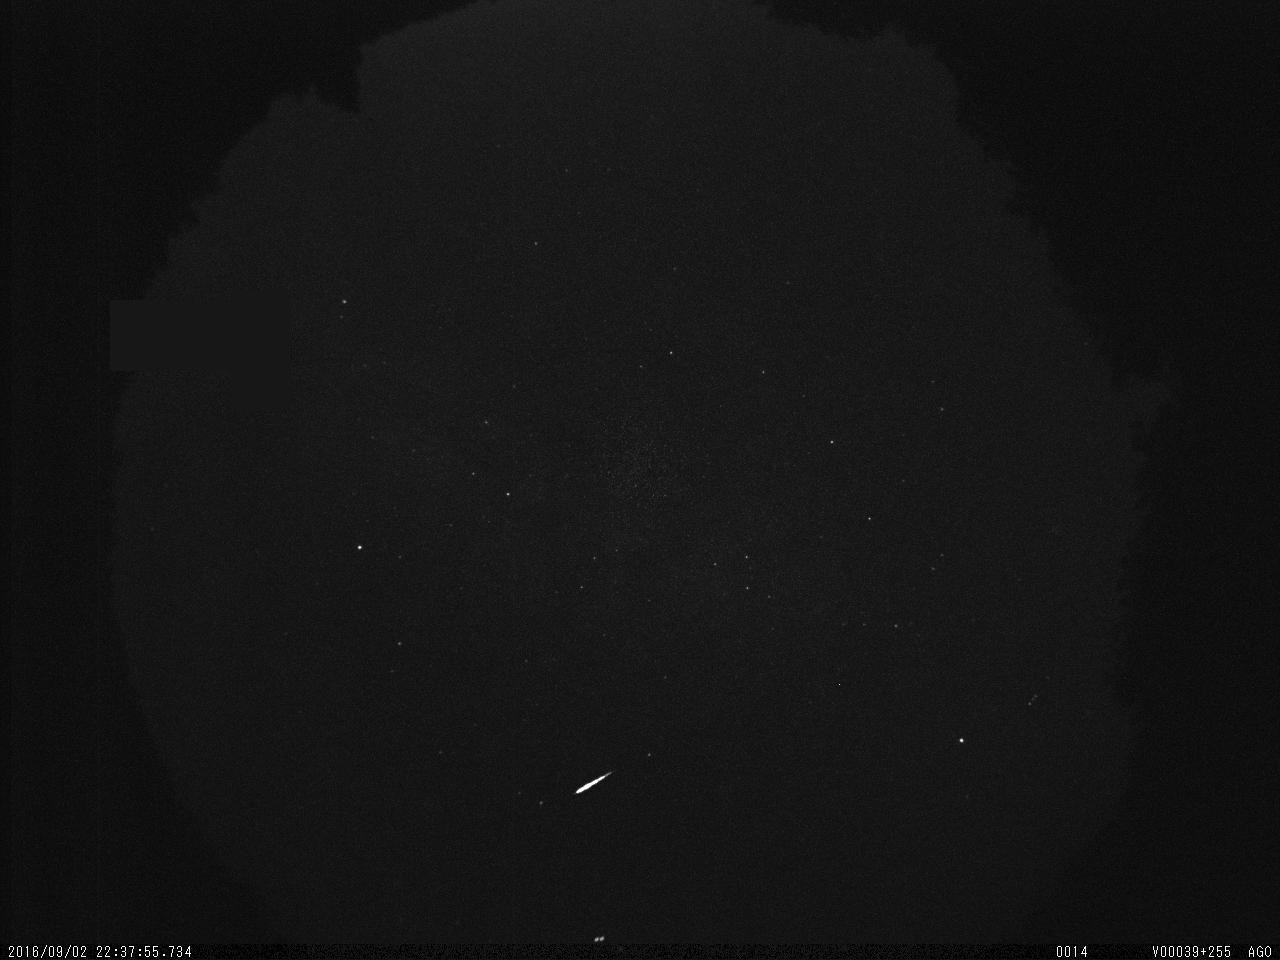Meteor: (572, 767, 615, 796)
